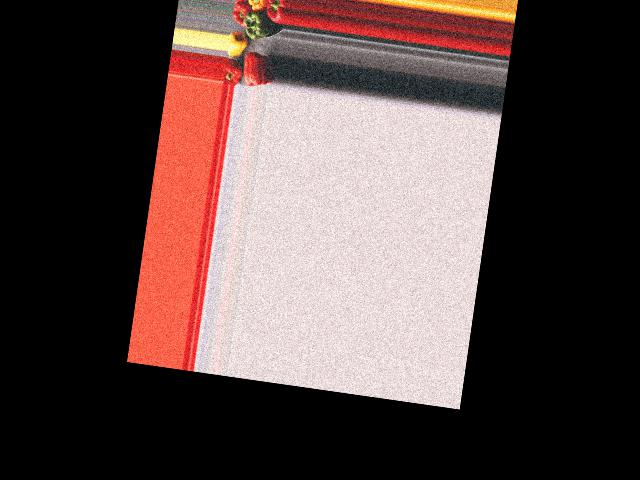bell_pepper: (224, 57, 243, 87)
